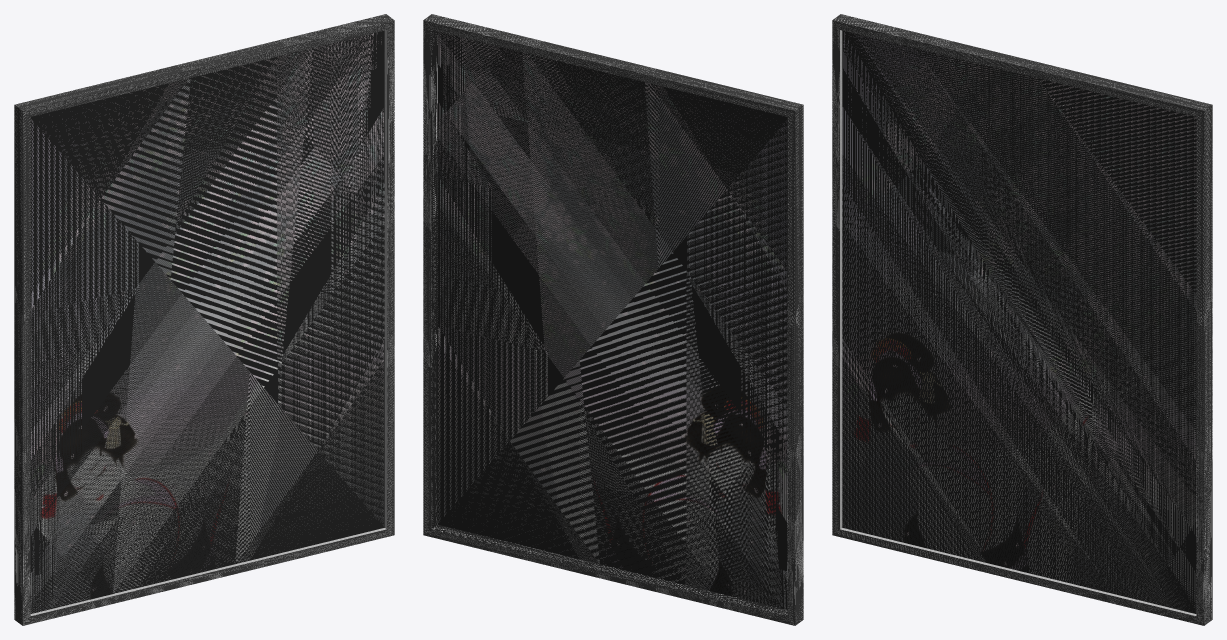
Rendered from Sayumi_s Picture frame 3.dae.
3 views of the same model, side by side, from view 1: azimuth 30°, elevation 25°; view 2: azimuth 150°, elevation 25°; view 3: azimuth 330°, elevation 25° (orthographic).
Visible parts, largest first — view 1: SketchUp (×3); view 2: SketchUp (×3); view 3: SketchUp (×3).
Part boxes in pixels (bbox=[...]): SketchUp (×3): bbox=[14, 14, 394, 625]; SketchUp (×3): bbox=[423, 14, 803, 625]; SketchUp (×3): bbox=[832, 14, 1212, 625].
Bounding box in the file's own units: 24.95 × 1 × 33.
